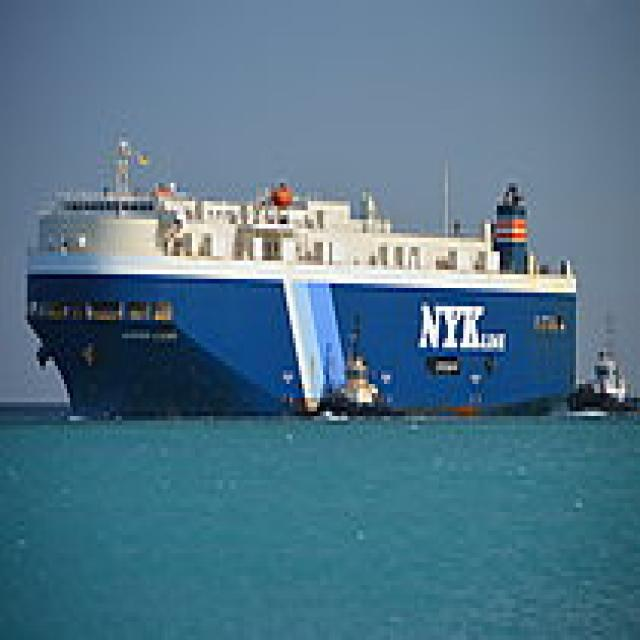Carrier: (18, 128, 579, 421)
